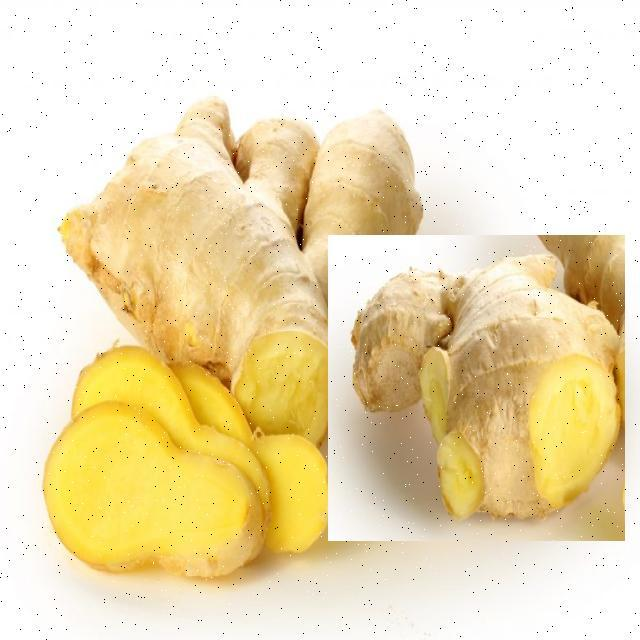ginger: (328, 235, 625, 541)
